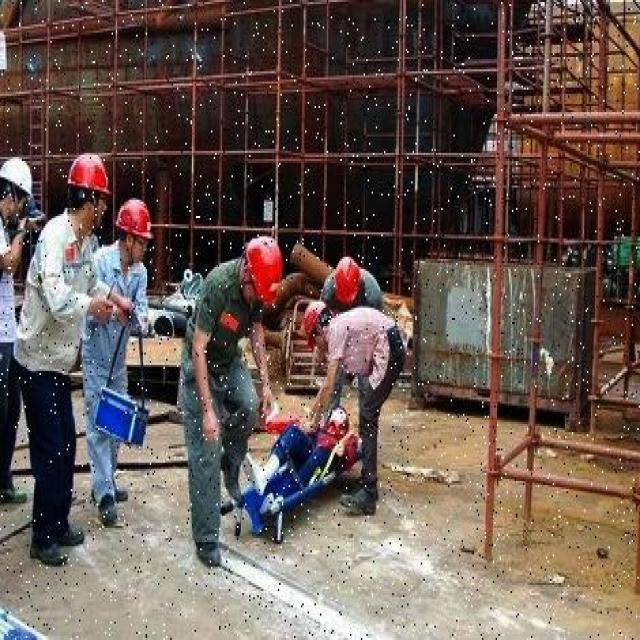fall: (246, 402, 362, 530)
